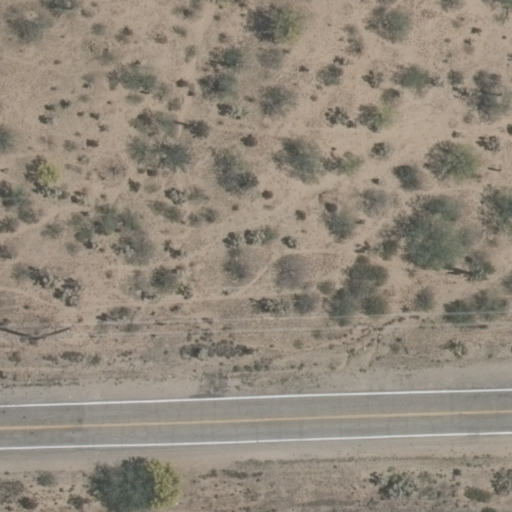DT: (32, 324, 70, 340)
